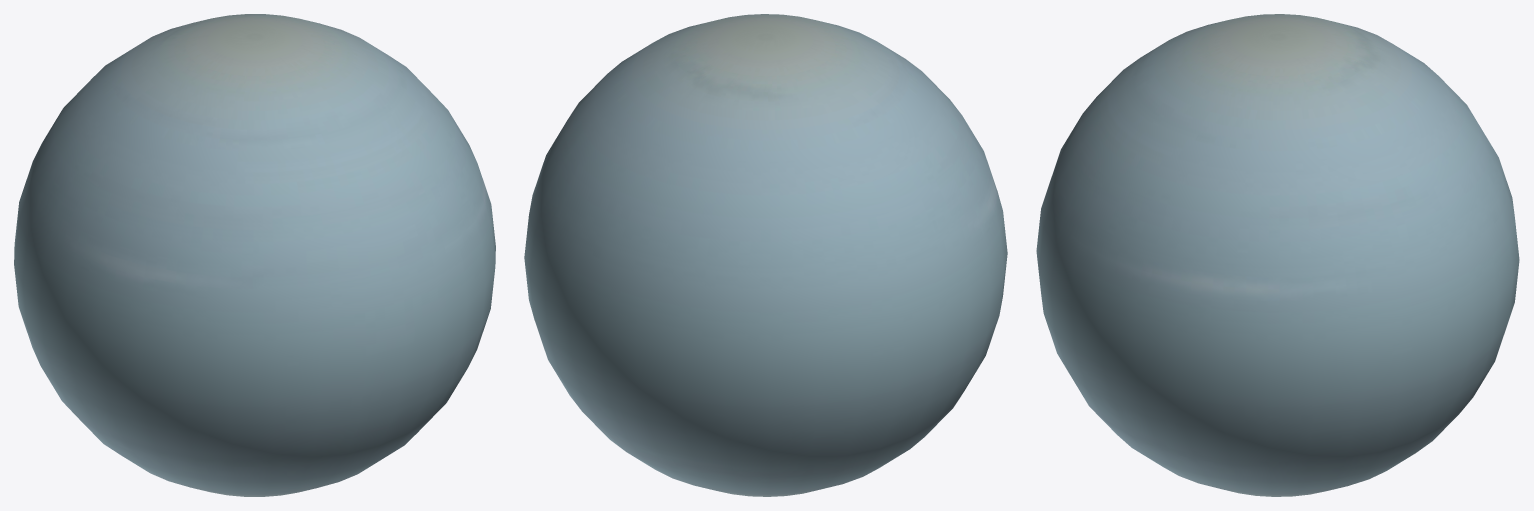
The model's file is uranus.obj.
The picture shows the model from 3 angles, left to right: view 1: azimuth 30°, elevation 25°; view 2: azimuth 150°, elevation 25°; view 3: azimuth 270°, elevation 25°; orthographic projection.
Parts seen in each view (by area): view 1: Uranus; view 2: Uranus; view 3: Uranus.
Boxes of the visible parts, x1,y1,x2,y2 form: Uranus: (14, 14, 495, 496); Uranus: (524, 14, 1007, 496); Uranus: (1036, 14, 1519, 496).
Size of the model in its own units: 81.69 by 81.77 by 81.69.
1 material, 1 textured.
